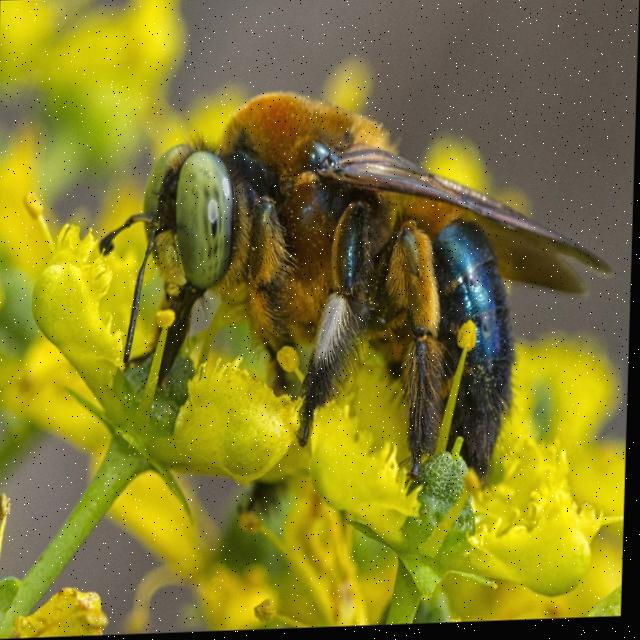Xylocopa: (84, 52, 635, 532)
